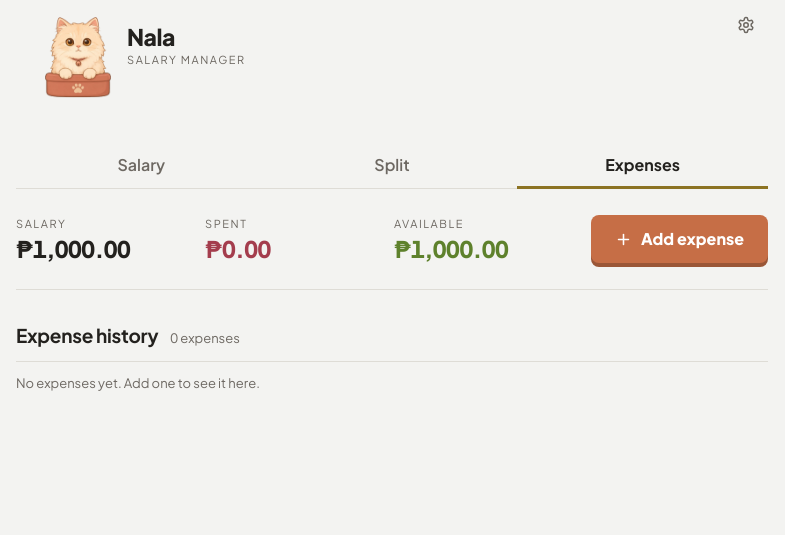
Scenario: tabs › reports over-allocation on the Split tab
Check: the tab "Expenses" is shown, box [517,145,768,189]
Check: the text "over by 20%" is not shown
What coordinates should you click on to do the following:
click the tab "Split"
I would click on:
 (392, 167)
Its box is [267,145,517,189].
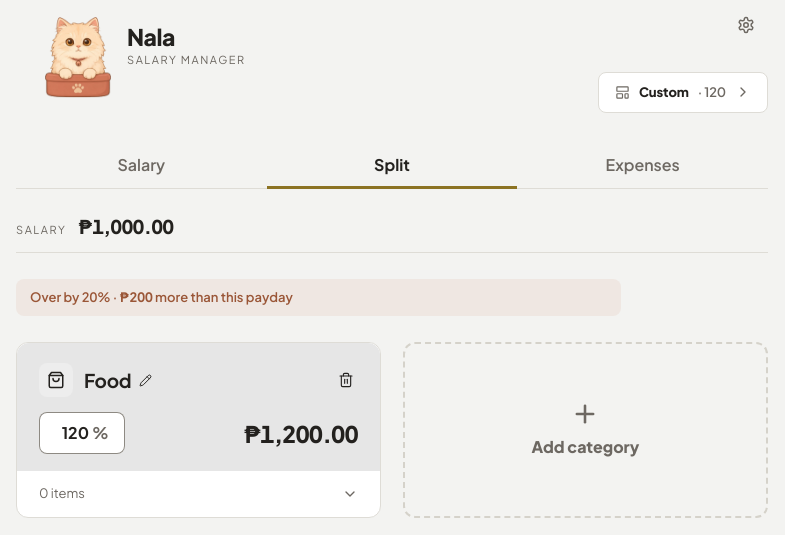
Check: the text "Over by 20% · ₱200 more than this payday" is shown, box [16,279,621,316]
